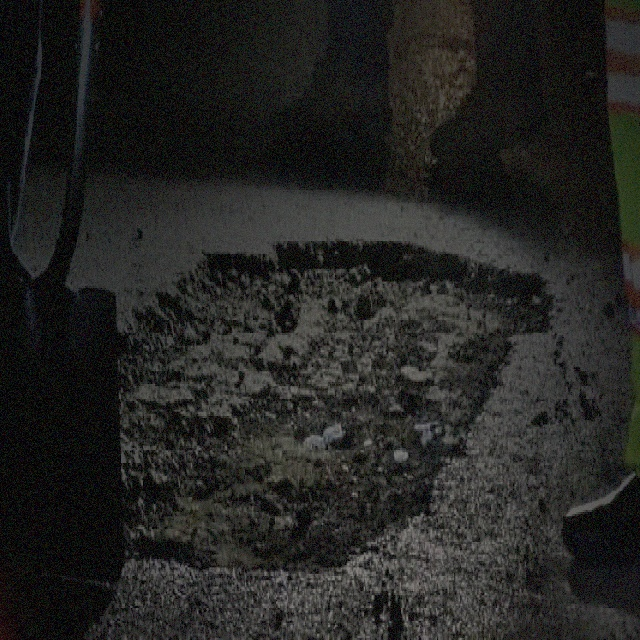pothole: (79, 232, 557, 570)
